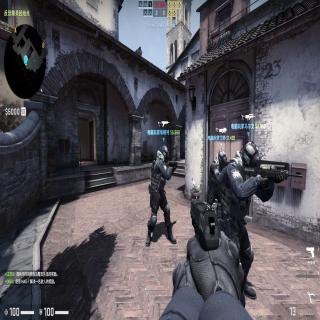CT-Body: (145, 144, 177, 244)
CT-Head: (242, 144, 262, 170), (159, 145, 169, 161), (218, 151, 226, 165)
